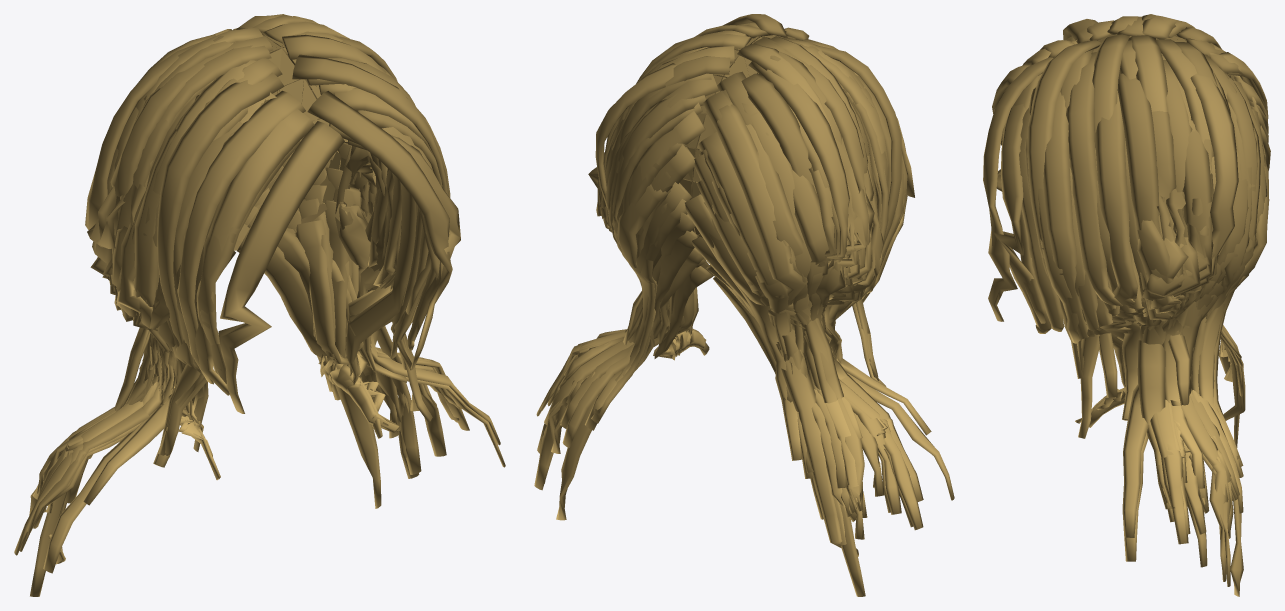
Rendered from kopf.haar.lang.glb.
3 views of the same model, side by side, from view 1: azimuth 30°, elevation 25°; view 2: azimuth 150°, elevation 25°; view 3: azimuth 270°, elevation 25° (orthographic). The views are drawn at different scales.
Visible parts, largest first — view 1: haar; view 2: haar; view 3: haar.
Boxes of the visible parts, x1=… form: haar: x1=14, y1=14, x2=505, y2=596; haar: x1=534, y1=14, x2=954, y2=596; haar: x1=983, y1=14, x2=1270, y2=596.
Bounding box in the file's own units: 0.4022 × 0.4675 × 0.2449.
